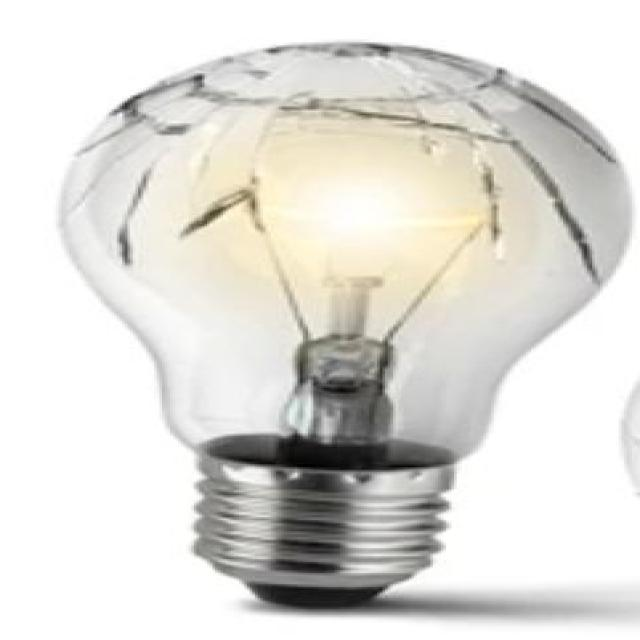electronic: (53, 39, 637, 607), (616, 306, 637, 608)
